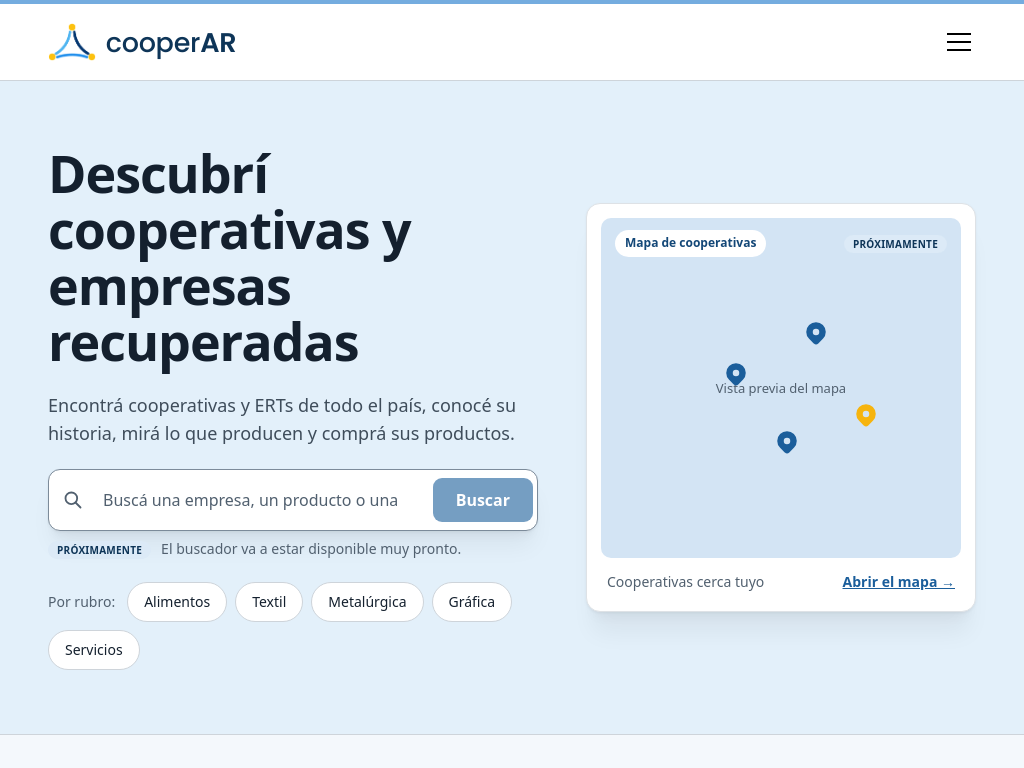
Test case: public site › opens the mobile menu with the sections and the account buttons
Click the button named "Abrir el menú".
click(959, 42)  # box [942,25,976,59]
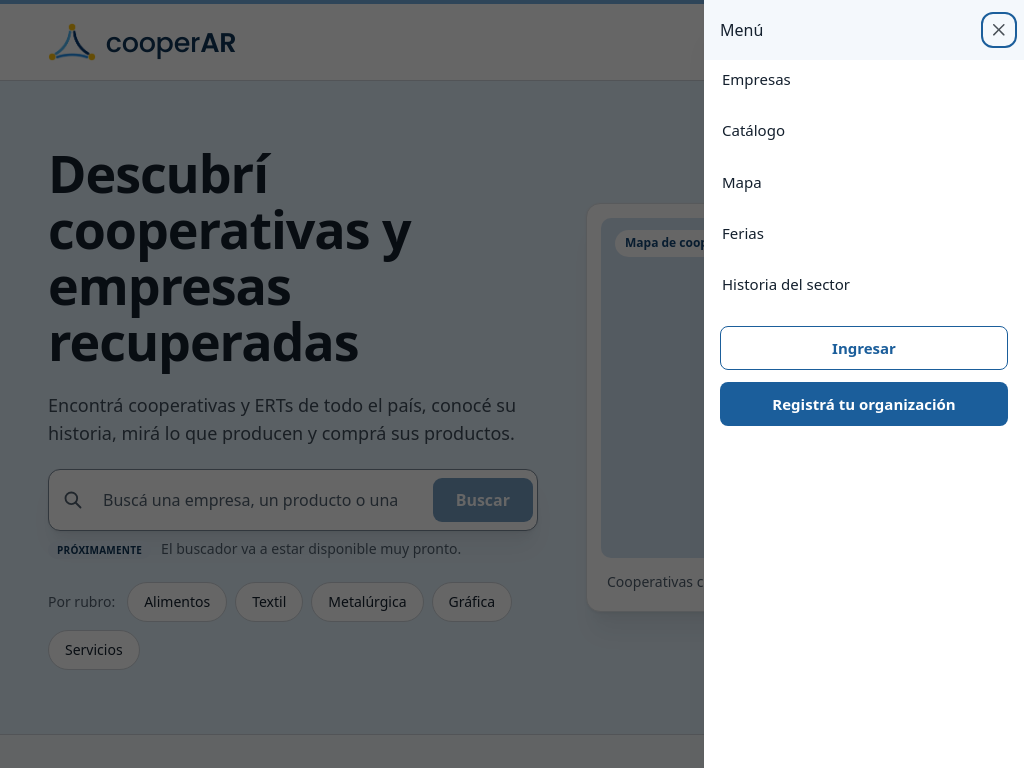
Now the link "Historia del sector" is shown, box [722,274,850,294]
Now the link "Ingresar" is shown, box [720,326,1008,370]
